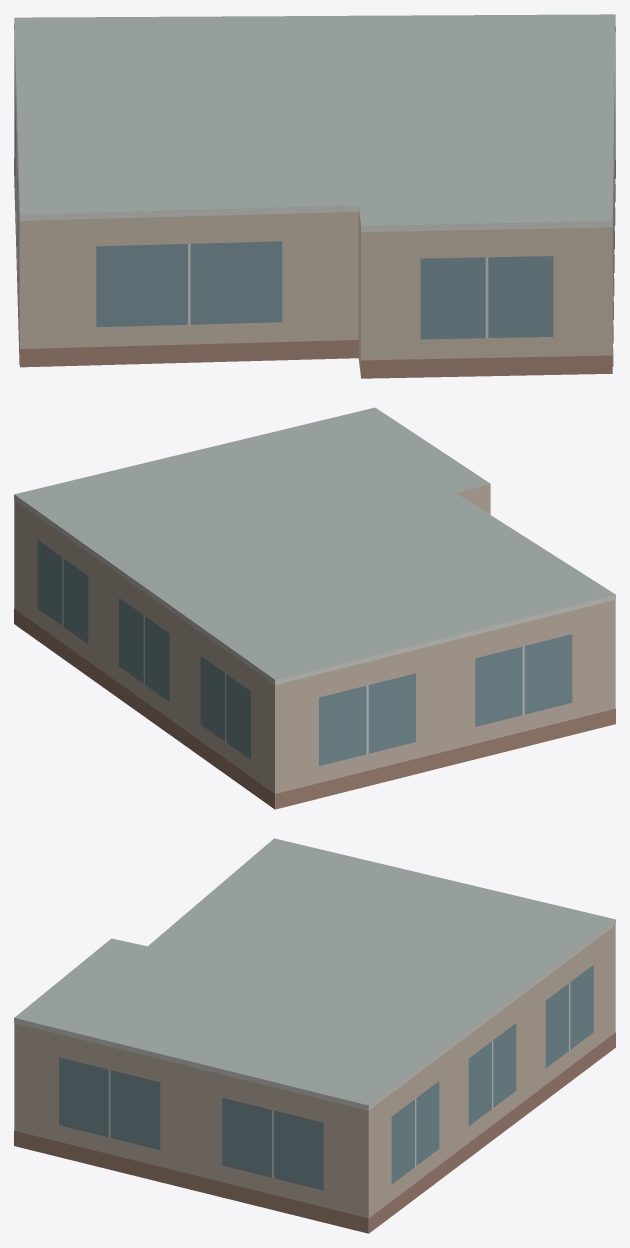
File: survey-upis-32641277.glb
3 renders of one model, top to bottom at view 1: azimuth 30°, elevation 25°; view 2: azimuth 150°, elevation 25°; view 3: azimuth 270°, elevation 25°, orthographic. The views are drawn at different scales.
Parts seen in each view (by area): view 1: survey-upis-32641277.tmp; view 2: survey-upis-32641277.tmp; view 3: survey-upis-32641277.tmp.
Boxes of the visible parts, x1,y1,x2,y2 form: survey-upis-32641277.tmp: (14,14,615,378); survey-upis-32641277.tmp: (14,407,615,809); survey-upis-32641277.tmp: (14,838,615,1233).
Size of the model in its own units: 13.65 by 3.05 by 12.99.
